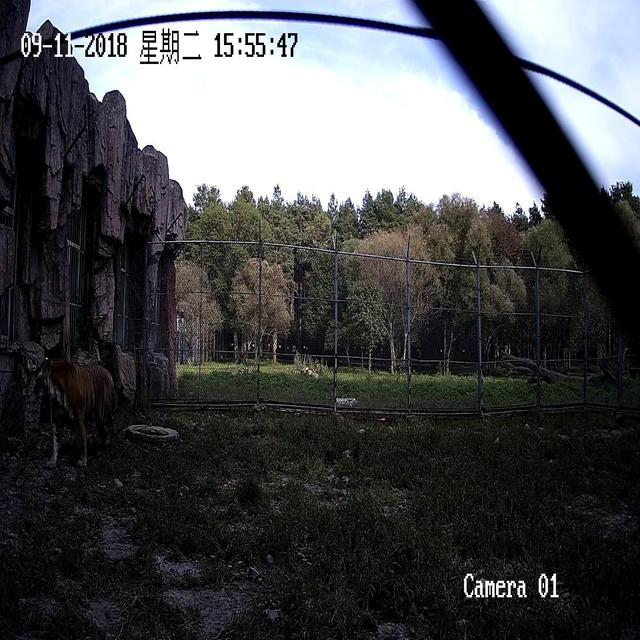tiger: (40, 355, 116, 468), (498, 347, 569, 385)
